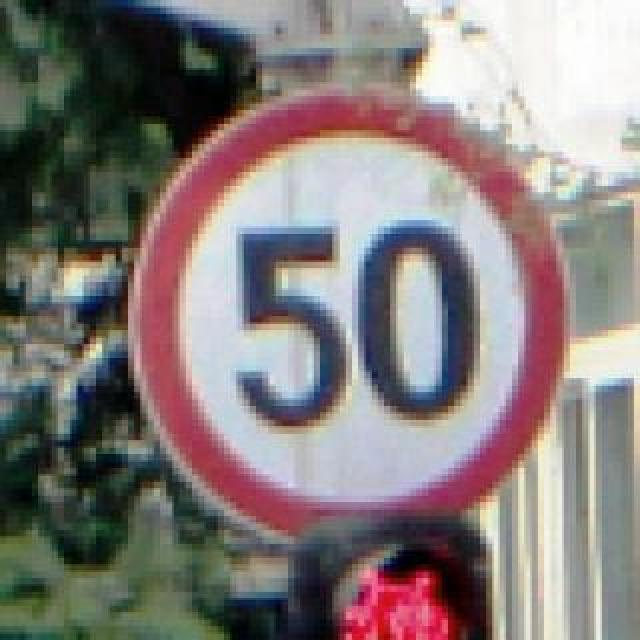50 kph: (122, 76, 562, 536)
